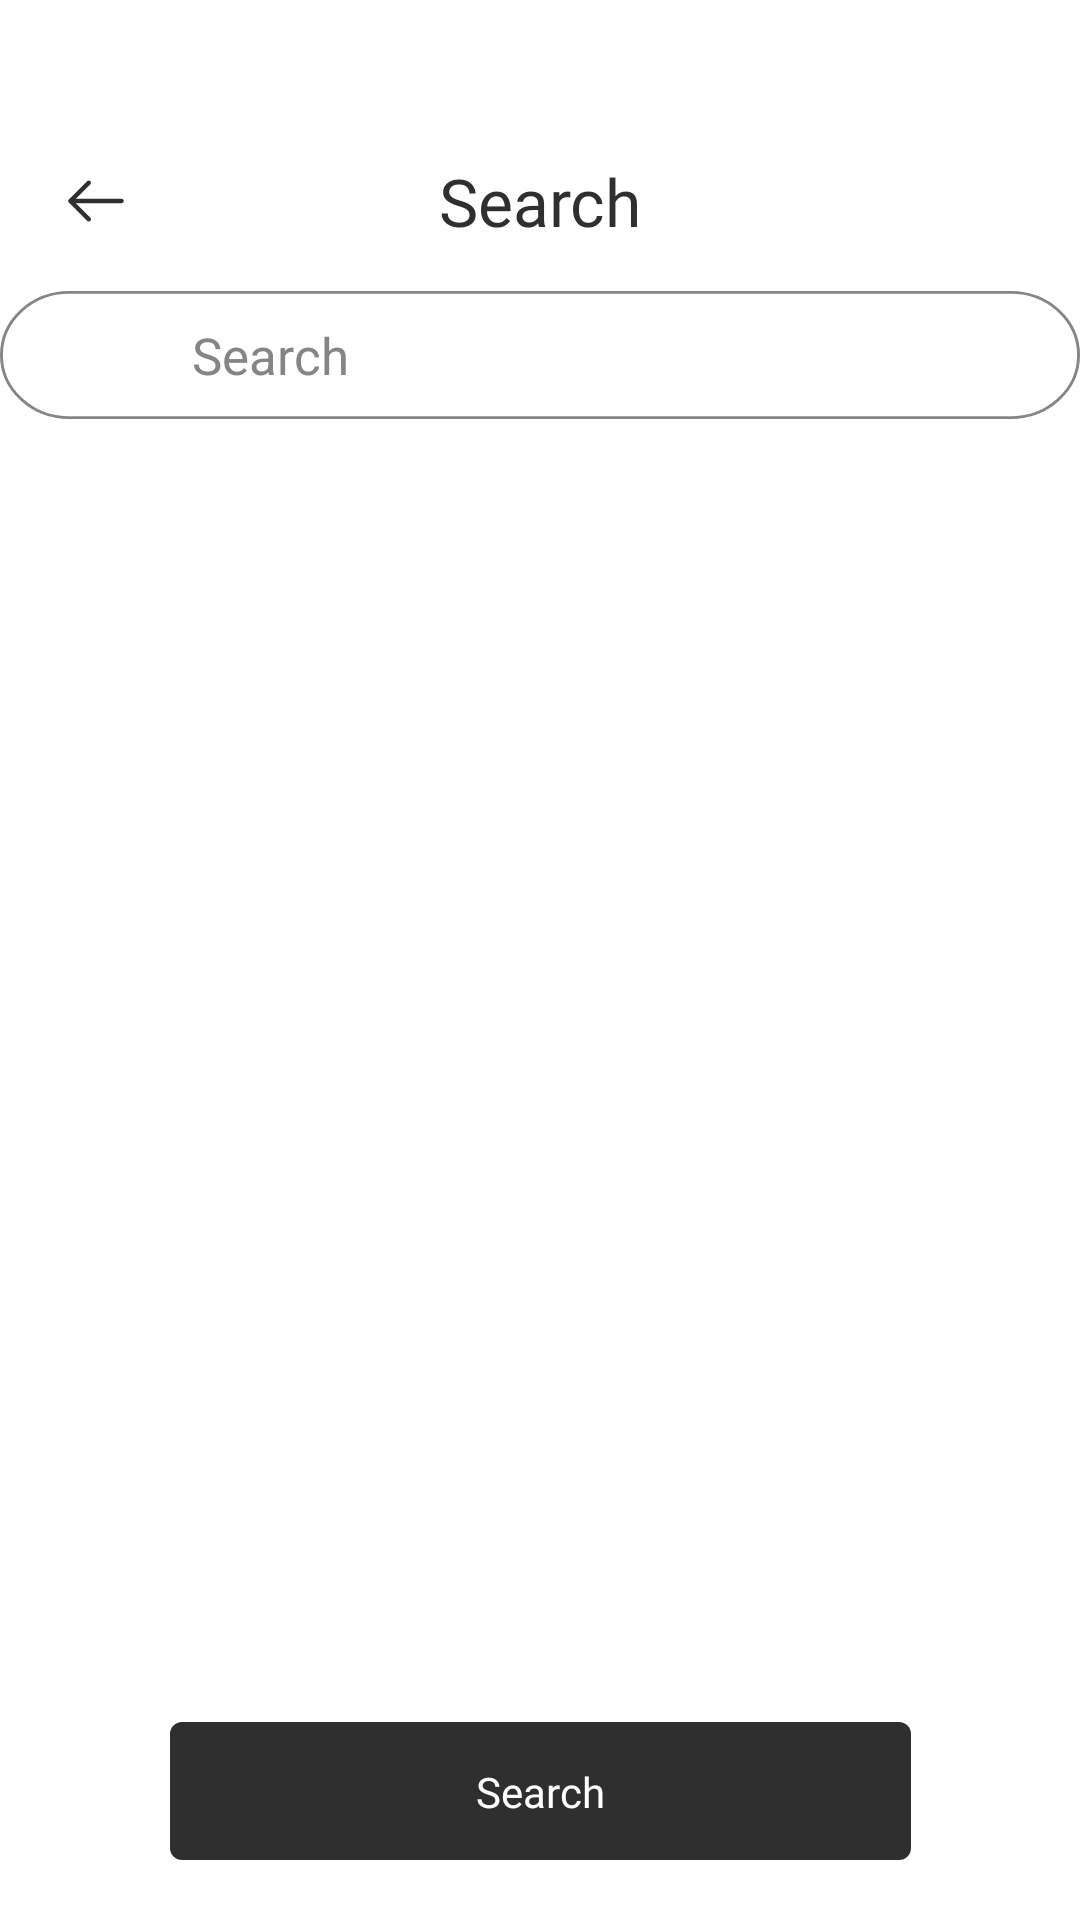

Screen size 1080*1920. Icon name, then its box in pixels as region(x1, y1, x2, y2):
arrow left: region(68, 180, 124, 222)
